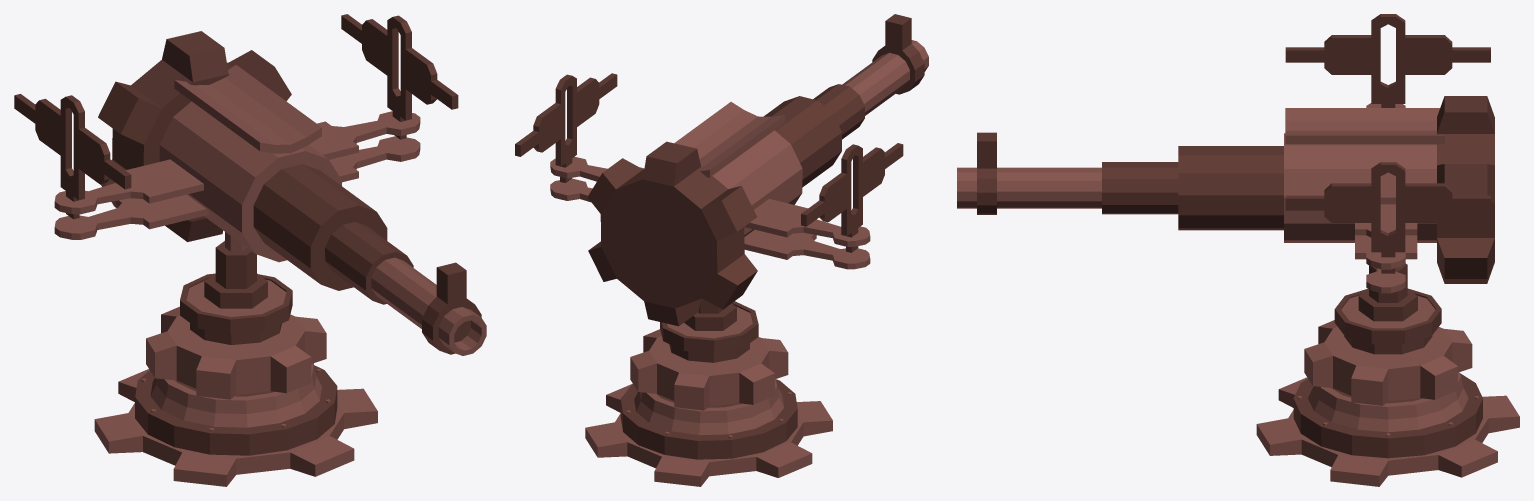
File: Gun_3.glb
3 renders of one model, left to right at view 1: azimuth 30°, elevation 25°; view 2: azimuth 150°, elevation 25°; view 3: azimuth 270°, elevation 25°, orthographic. The views are drawn at different scales.
Parts seen in each view (by area): view 1: Gun_3_Gun, Gun_3_Base, Gun_3_Mid; view 2: Gun_3_Gun, Gun_3_Base, Gun_3_Mid; view 3: Gun_3_Gun, Gun_3_Base, Gun_3_Mid.
Part boxes in pixels (bbox=[...]): Gun_3_Gun: bbox=[14, 14, 486, 355]; Gun_3_Base: bbox=[94, 306, 377, 486]; Gun_3_Mid: bbox=[180, 232, 292, 344]; Gun_3_Gun: bbox=[515, 14, 928, 326]; Gun_3_Base: bbox=[585, 329, 832, 486]; Gun_3_Mid: bbox=[660, 298, 758, 362]; Gun_3_Gun: bbox=[957, 14, 1494, 293]; Gun_3_Base: bbox=[1256, 320, 1519, 486]; Gun_3_Mid: bbox=[1334, 263, 1441, 354].
Size of the model in its own units: 2.02 by 1.99 by 2.94.
